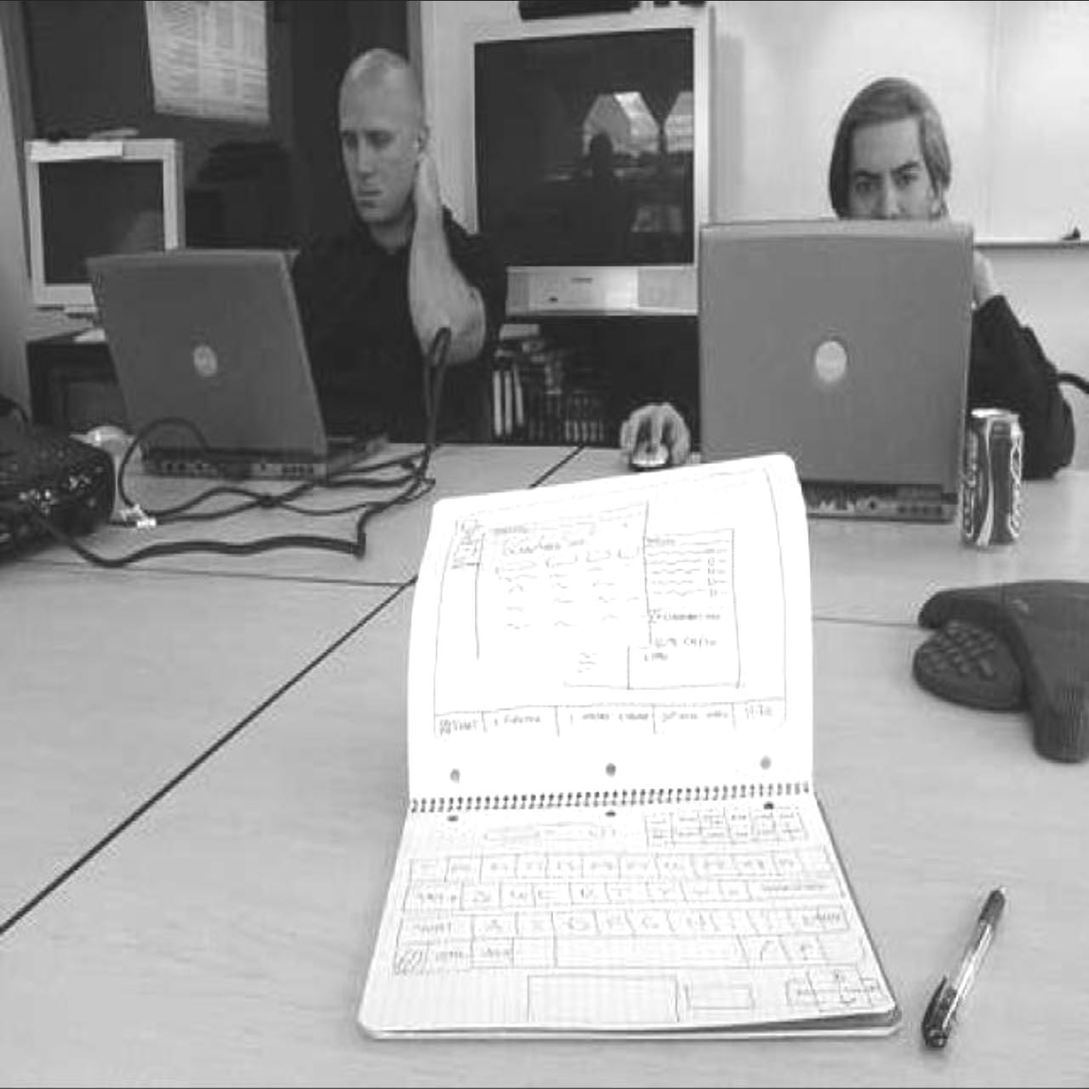laptop: (665, 197, 1002, 517), (92, 252, 371, 483)
